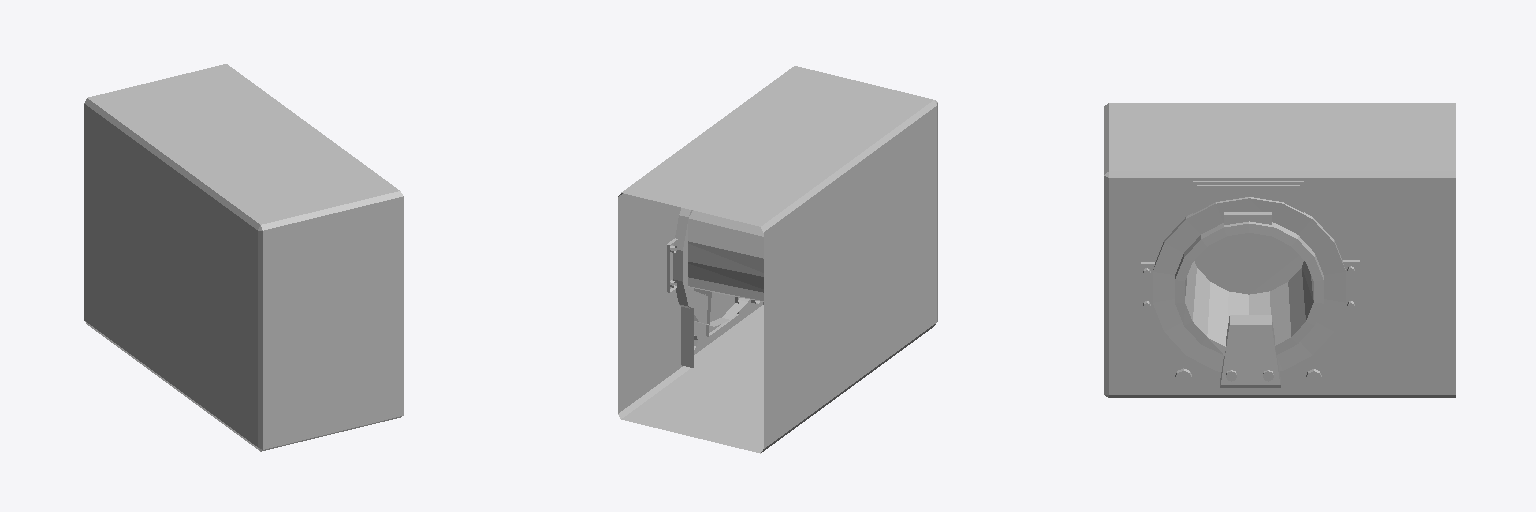
Rendered from laundry_dryer.obj.
The picture shows the model from 3 angles: view 1: azimuth 30°, elevation 25°; view 2: azimuth 150°, elevation 25°; view 3: azimuth 270°, elevation 25°; orthographic projection.
Visible parts, largest first — view 1: laundry_dryer002; view 2: laundry_dryer002; view 3: laundry_dryer002.
Boxes of the visible parts, <box> form: laundry_dryer002: <box>84,64,403,451</box>; laundry_dryer002: <box>618,66,937,453</box>; laundry_dryer002: <box>1104,103,1455,397</box>.
Size of the model in its own units: 54.94 by 71.1 by 100.